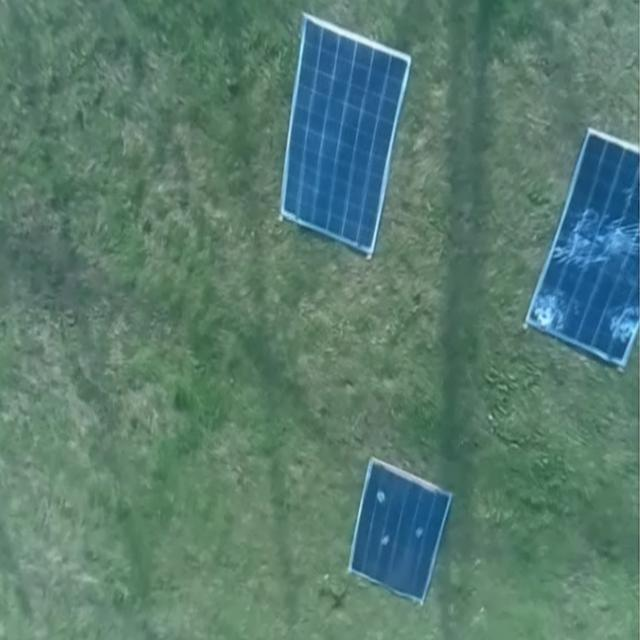Bird-drop: (377, 529, 392, 552), (374, 484, 388, 507), (414, 522, 428, 544)
Physical-damage: (562, 206, 640, 276), (535, 289, 573, 330), (606, 296, 635, 342)
